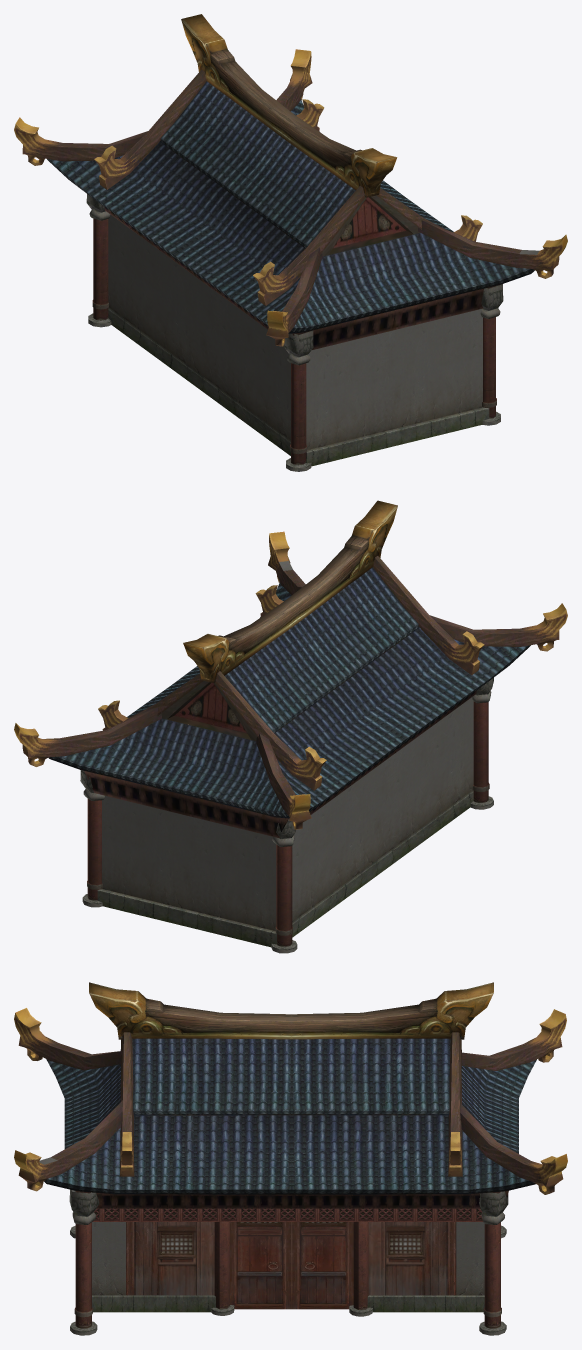
Rendered from jz_fang02_54_01_0560out.fbx.
3 renders of one model, top to bottom at view 1: azimuth 30°, elevation 25°; view 2: azimuth 150°, elevation 25°; view 3: azimuth 270°, elevation 25°, orthographic. The views are drawn at different scales.
Parts seen in each view (by area): view 1: jz_fang02; view 2: jz_fang02; view 3: jz_fang02.
Part boxes in pixels (x1,y1,x2,y2): jz_fang02: (14, 14, 567, 471); jz_fang02: (14, 500, 567, 953); jz_fang02: (14, 982, 567, 1335).
Size of the model in its own units: 8.3 by 7.45 by 12.78.
